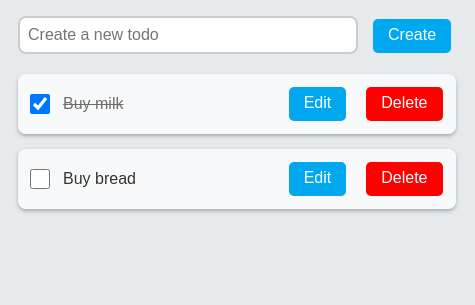
Test: TodoApp › creates a new todo at top
Type "Buy chips" into the field with test id "inputField" at (188, 35), box [18,16,358,54]
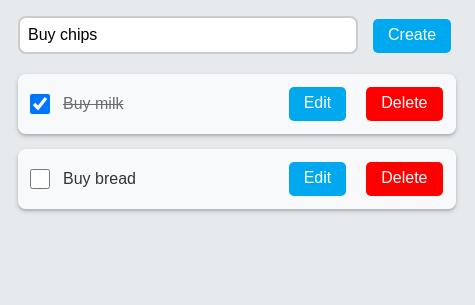
Click the button with test id "create-button" at (412, 36), box [373,19,451,53]
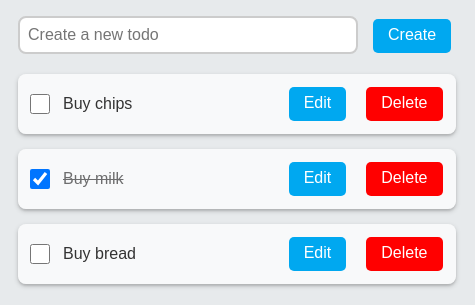
Expected: the text with test id "todo0" reads "Buy chips", [63,95,132,112]
Expected: the number of elements with test id "parent-todo" is 3, [63,95,132,112]; [63,170,124,187]; [63,245,136,262]
Expected: the field with test id "inputField" is empty, [18,16,358,54]
